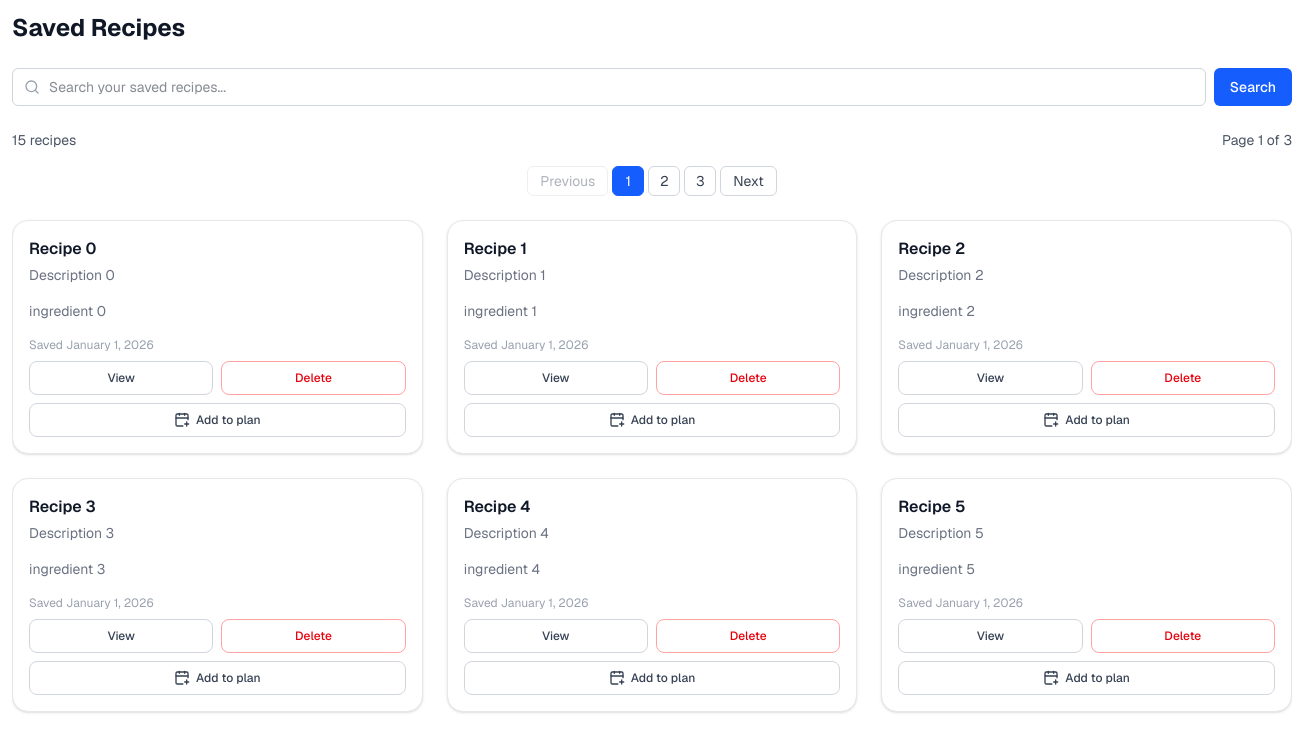
RecipesPage › navigates to a page when a page number is clicked
Click the button named "Go to page 2". click: (664, 181)
box: [648,166,680,196]
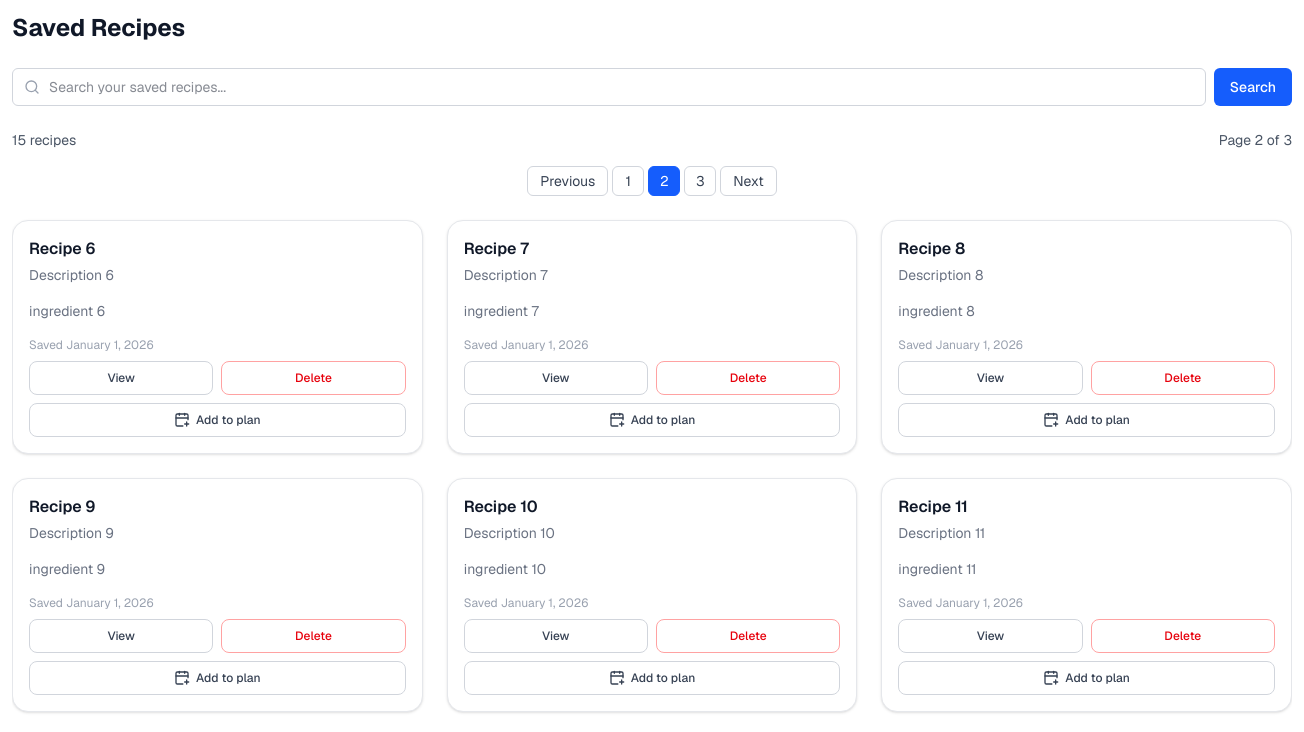
Now the text "Page 2 of 3" is shown, box [1219,130,1292,150]
